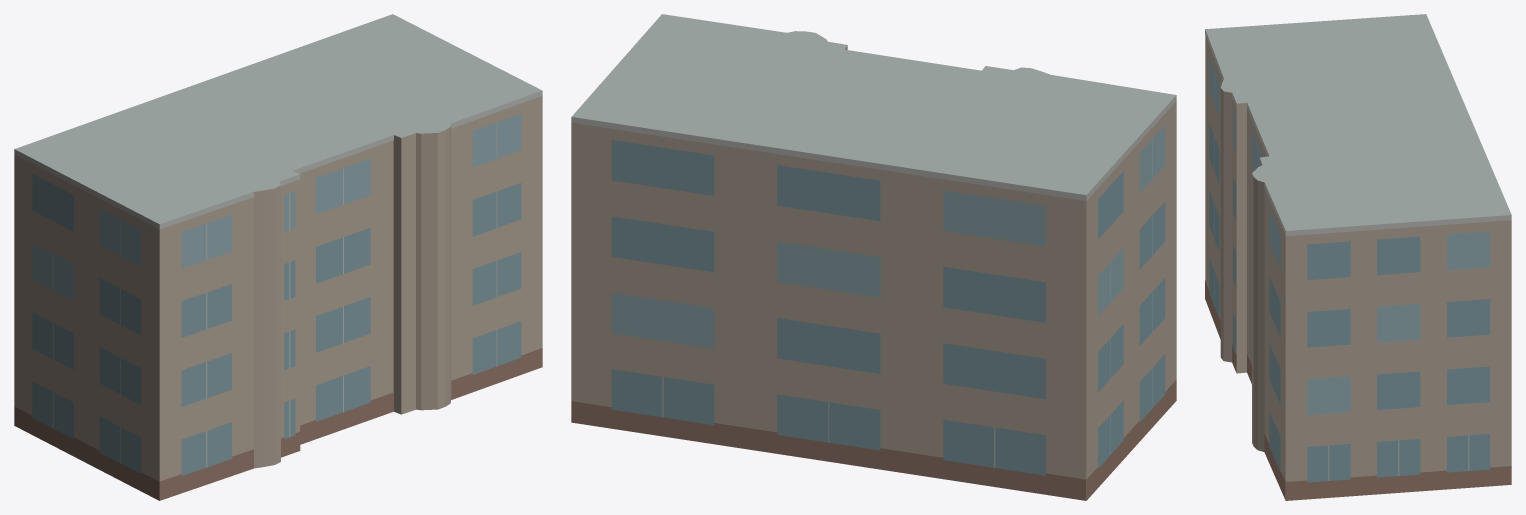
File: survey-upis-32703415.glb
3 views of the same model, side by side, from view 1: azimuth 30°, elevation 25°; view 2: azimuth 150°, elevation 25°; view 3: azimuth 270°, elevation 25° (orthographic). The views are drawn at different scales.
Parts seen in each view (by area): view 1: survey-upis-32703415.tmp; view 2: survey-upis-32703415.tmp; view 3: survey-upis-32703415.tmp.
Part boxes in pixels (x1,y1,x2,y2): survey-upis-32703415.tmp: [14, 14, 542, 500]; survey-upis-32703415.tmp: [571, 14, 1176, 500]; survey-upis-32703415.tmp: [1205, 14, 1511, 500].
Bounding box in the file's own units: 21.92 × 12.7 × 13.09.
